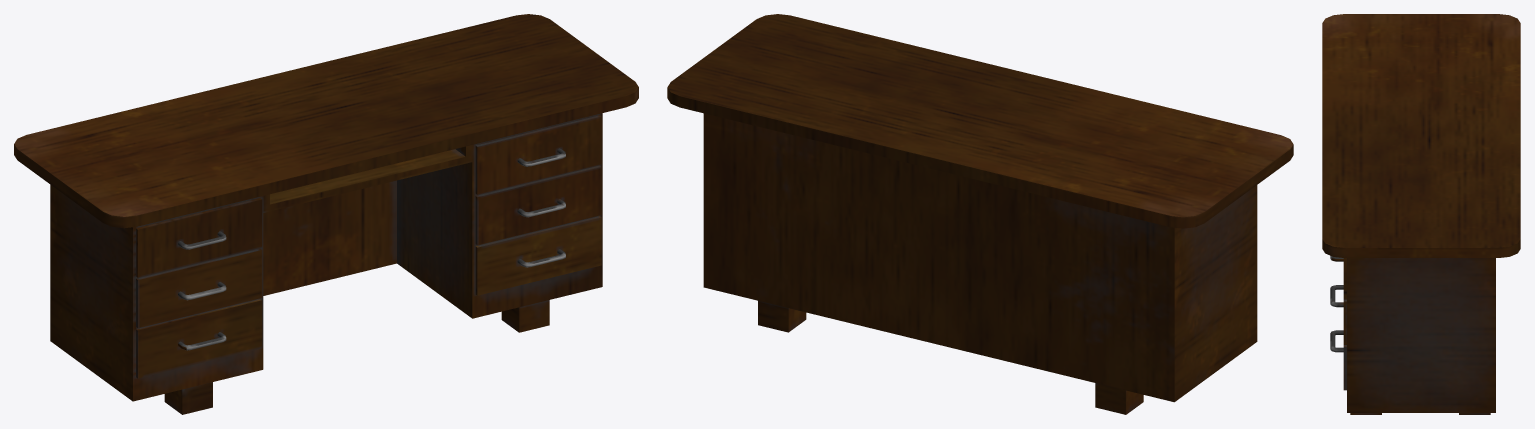
The model's file is Office Desk.fbx.
3 views of the same model, side by side, from view 1: azimuth 30°, elevation 25°; view 2: azimuth 150°, elevation 25°; view 3: azimuth 270°, elevation 25° (orthographic). The views are drawn at different scales.
Visible parts, largest first — view 1: Office Desk; view 2: Office Desk; view 3: Office Desk.
Boxes of the visible parts, box(x1,y1,x2,y2) form: Office Desk: box(14, 14, 638, 414); Office Desk: box(667, 14, 1293, 414); Office Desk: box(1322, 14, 1520, 414).
Size of the model in its own units: 210 by 85.12 by 75.33.
